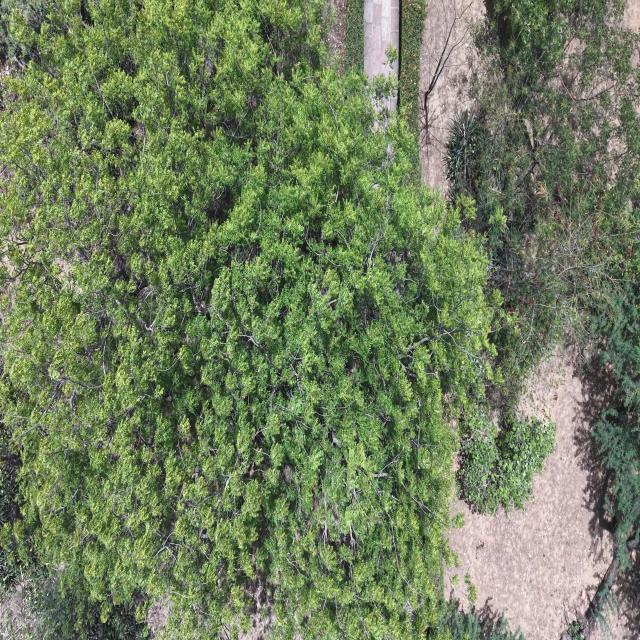DRY_AREA: (445, 356, 611, 639), (419, 0, 485, 193), (363, 0, 399, 78), (327, 0, 345, 71), (622, 0, 639, 32)
VEGETATION_TREE: (0, 0, 639, 639), (0, 0, 493, 638), (445, 0, 639, 638), (444, 0, 639, 413), (445, 0, 639, 386), (0, 436, 146, 639), (584, 255, 639, 638), (593, 278, 639, 568), (457, 409, 554, 514), (21, 569, 146, 639), (397, 0, 424, 143), (398, 0, 424, 138), (0, 454, 27, 585), (440, 598, 523, 639), (0, 0, 49, 69), (444, 111, 481, 195), (344, 0, 364, 72)
